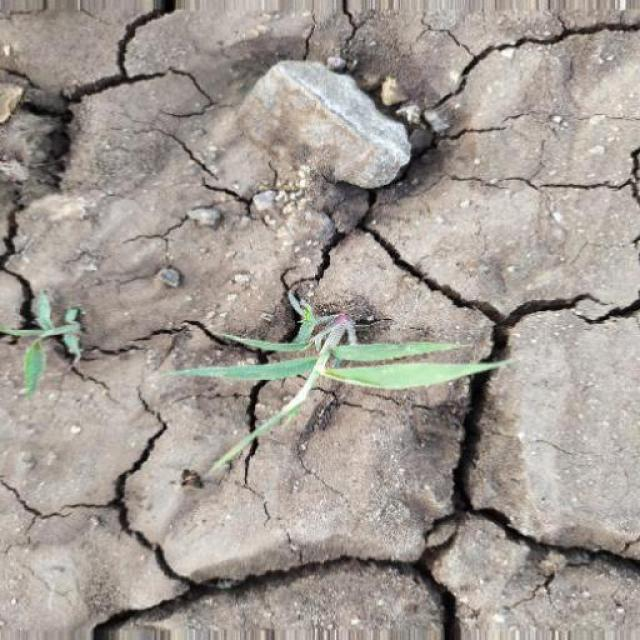weed: (159, 288, 500, 494)
